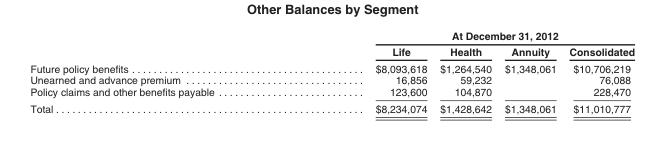table: (29, 29, 634, 114)
table column: (29, 29, 294, 114), (294, 29, 432, 114), (562, 29, 634, 114), (432, 29, 497, 114), (497, 29, 562, 114)
table column header: (29, 29, 634, 59)
table row: (29, 43, 634, 59), (29, 99, 634, 114), (29, 29, 634, 43), (29, 59, 634, 73), (29, 85, 634, 99), (29, 73, 634, 85)
table spanning cell: (294, 29, 634, 43)
